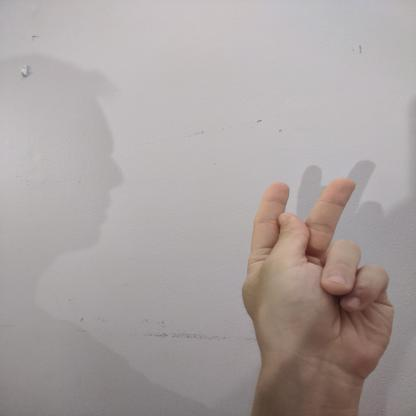K: (233, 172, 398, 388)
